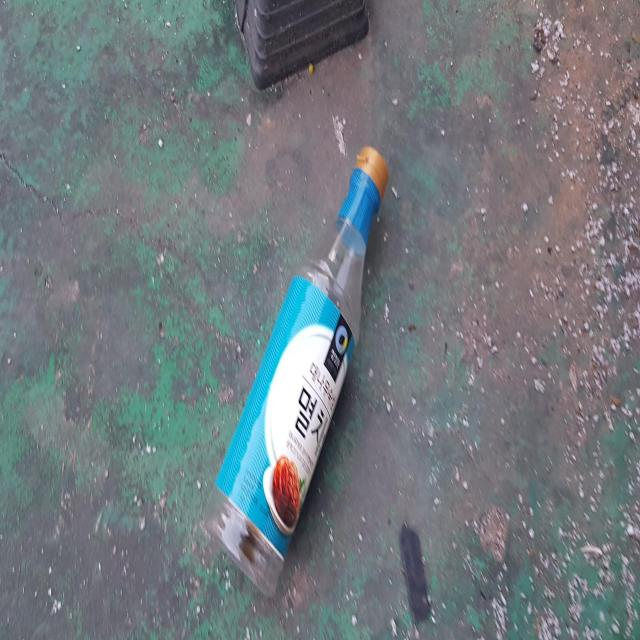plastic: (205, 145, 389, 596)
